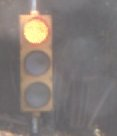Red: (18, 12, 51, 117)
